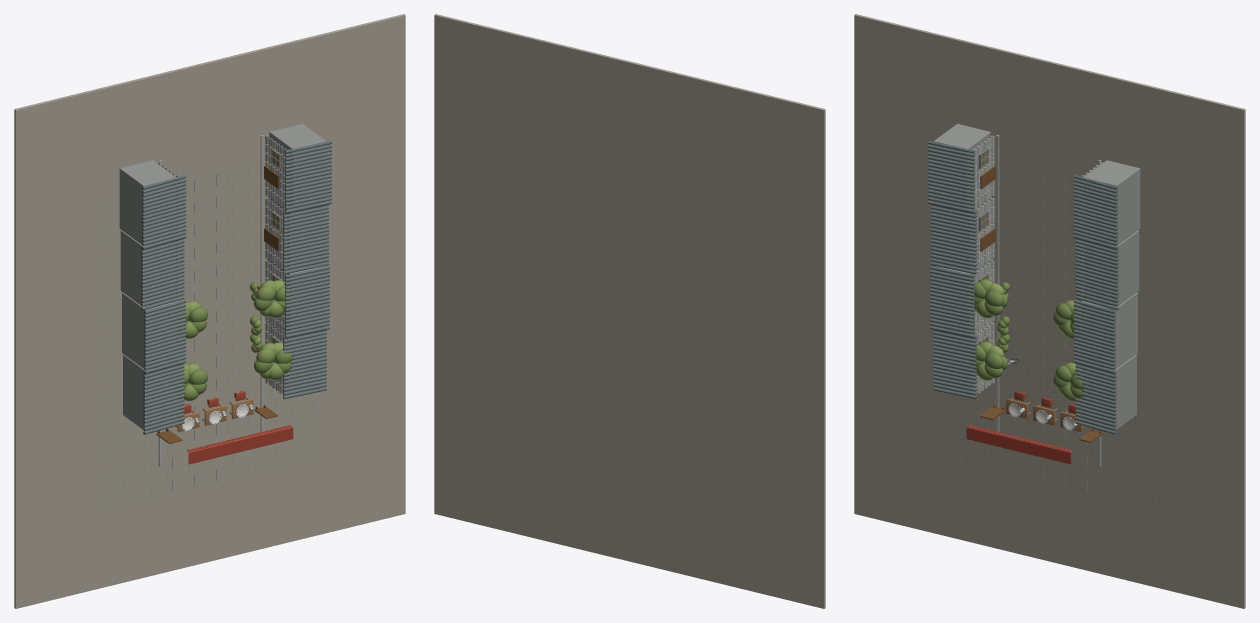
File: street-a.40871ace3c42.glb
3 views of the same model, side by side, from view 1: azimuth 30°, elevation 25°; view 2: azimuth 150°, elevation 25°; view 3: azimuth 330°, elevation 25° (orthographic).
Visible parts, largest first — view 1: Outdoor lane ground, Street Charcoal roof tiles, Street Grey mortar, Street Paving joints, Street Faded breakfast canopy red, Street Olive foliage 0, Street Grey brick 3, Street Olive foliage 1, Street Olive foliage 2, Street Grey brick 2, Street Grey brick 0, Street Grey brick 4 (+2 smaller); view 2: Outdoor lane ground; view 3: Outdoor lane ground, Street Charcoal roof tiles, Street Grey mortar, Street Paving joints, Street Faded breakfast canopy red, Street Grey brick 3, Street Olive foliage 0, Street Olive foliage 1, Street Olive foliage 2, Street Grey brick 1, Street Grey brick 2, Street Grey brick 0 (+1 smaller).
Part boxes in pixels (bbox=[...]): Outdoor lane ground: bbox=[14, 14, 405, 608]; Street Charcoal roof tiles: bbox=[141, 141, 331, 434]; Street Grey mortar: bbox=[119, 123, 326, 429]; Street Paving joints: bbox=[102, 162, 318, 508]; Street Faded breakfast canopy red: bbox=[187, 425, 293, 464]; Street Olive foliage 0: bbox=[175, 282, 293, 392]; Street Grey brick 3: bbox=[158, 135, 286, 466]; Street Olive foliage 1: bbox=[177, 286, 292, 394]; Street Olive foliage 2: bbox=[178, 280, 284, 400]; Street Grey brick 2: bbox=[164, 138, 286, 393]; Street Grey brick 0: bbox=[162, 136, 286, 395]; Street Grey brick 4: bbox=[169, 135, 286, 393]; Outdoor lane ground: bbox=[434, 14, 825, 608]; Outdoor lane ground: bbox=[854, 14, 1245, 608]; Street Charcoal roof tiles: bbox=[928, 141, 1118, 434]; Street Grey mortar: bbox=[933, 123, 1140, 429]; Street Paving joints: bbox=[941, 162, 1157, 508]; Street Faded breakfast canopy red: bbox=[966, 425, 1072, 464]; Street Grey brick 3: bbox=[973, 135, 1101, 466]; Street Olive foliage 0: bbox=[969, 282, 1087, 389]; Street Olive foliage 1: bbox=[971, 282, 1086, 398]; Street Olive foliage 2: bbox=[976, 279, 1077, 401]; Street Grey brick 1: bbox=[973, 136, 1090, 393]; Street Grey brick 2: bbox=[973, 141, 1099, 391]; Street Grey brick 0: bbox=[973, 138, 1103, 395].
Bounding box in the file's own units: 36 × 44 × 5.1.
